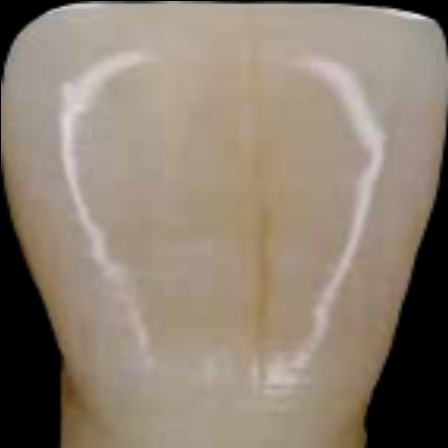coin_1: (374, 386, 394, 406)
coin_2: (435, 183, 448, 203)
coin_3: (66, 356, 86, 376)
coin_4: (10, 209, 30, 229)
